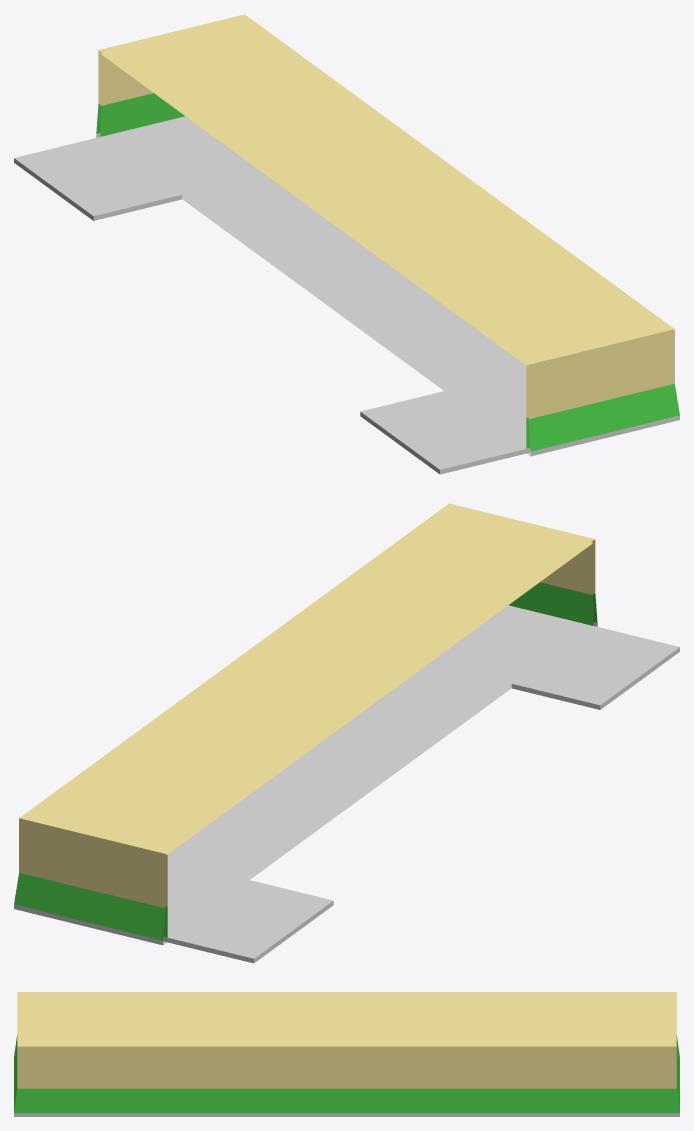
The model's file is interior_school_room_south_02.fbx.
The picture shows the model from 3 angles, top to bottom: view 1: azimuth 30°, elevation 25°; view 2: azimuth 150°, elevation 25°; view 3: azimuth 270°, elevation 25°; orthographic projection. The views are drawn at different scales.
Parts seen in each view (by area): view 1: Visible Mesh; view 2: Visible Mesh; view 3: Visible Mesh.
Part boxes in pixels (left/top/right/bottom): Visible Mesh: left=14, top=14, right=679, bottom=474; Visible Mesh: left=14, top=503, right=679, bottom=963; Visible Mesh: left=14, top=992, right=679, bottom=1116.
Size of the model in its own units: 1042 by 380 by 3322.
